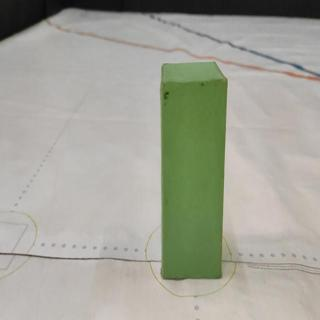greenbox: (161, 59, 228, 281)
